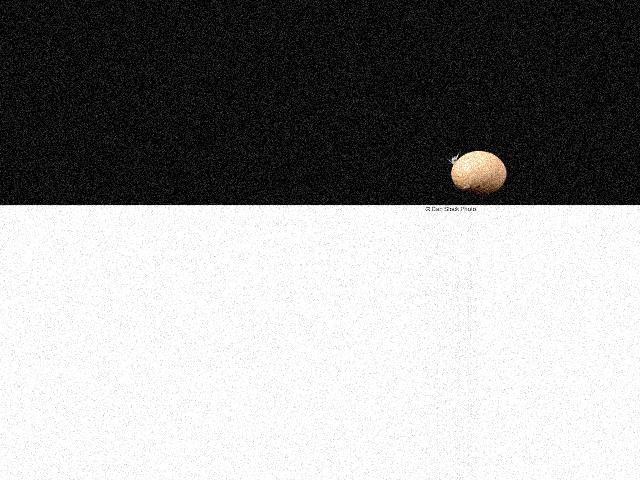egg: (451, 151, 507, 195)
